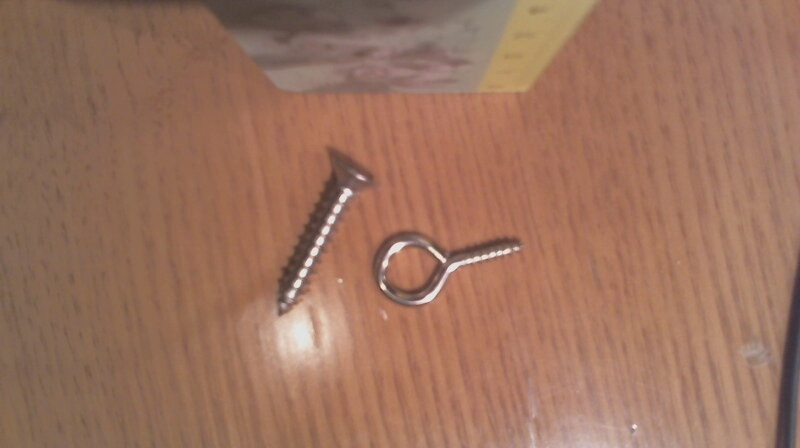O001: (368, 230, 527, 310)
S001: (270, 147, 381, 318)
